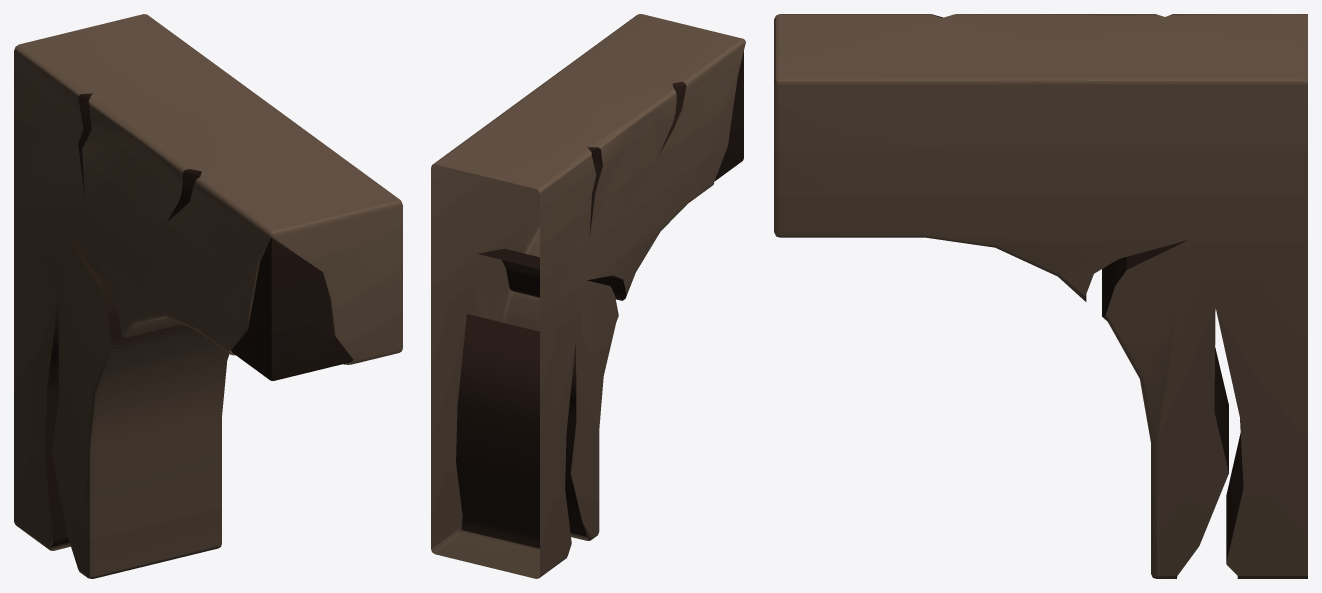
The model's file is SM_hingeDamaged.fbx.
3 views of the same model, side by side, from view 1: azimuth 30°, elevation 25°; view 2: azimuth 150°, elevation 25°; view 3: azimuth 270°, elevation 25° (orthographic). The views are drawn at different scales.
Visible parts, largest first — view 1: hinge_damaged; view 2: hinge_damaged; view 3: hinge_damaged.
Part boxes in pixels (x1,y1,x2,y2): hinge_damaged: (14, 14, 402, 578); hinge_damaged: (431, 14, 745, 578); hinge_damaged: (774, 14, 1307, 578).
Size of the model in its own units: 13.11 by 44.8 by 43.25.
